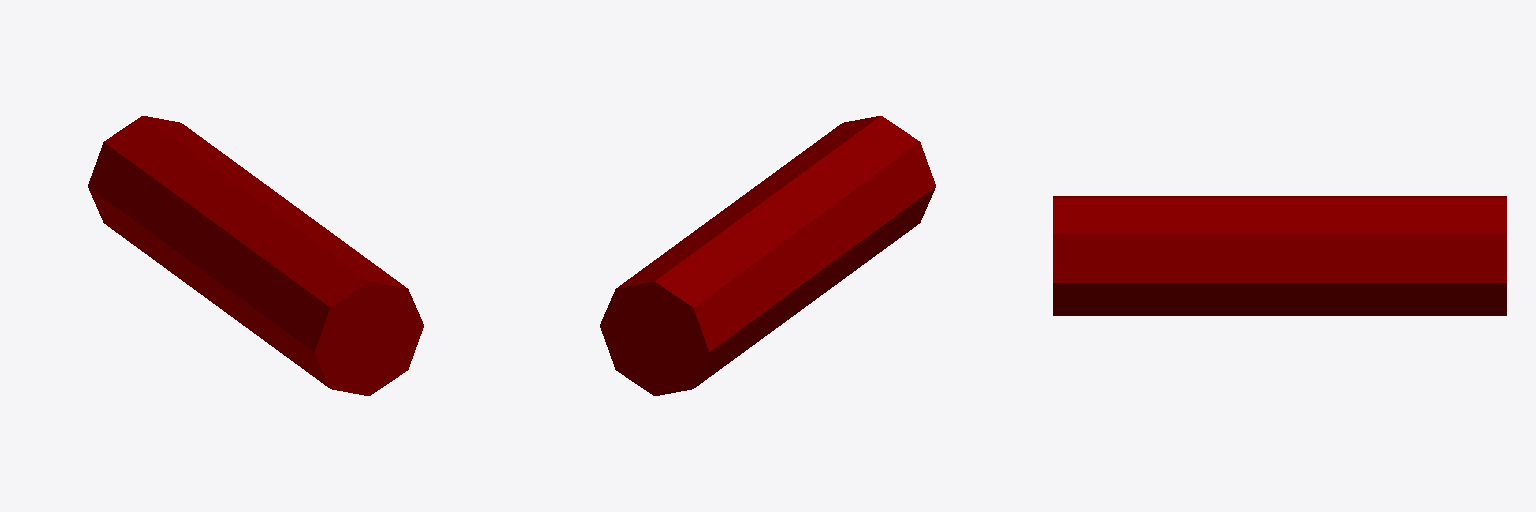
The model's file is GunFlame3.obj.
3 views of the same model, side by side, from view 1: azimuth 30°, elevation 25°; view 2: azimuth 150°, elevation 25°; view 3: azimuth 270°, elevation 25° (orthographic).
Parts seen in each view (by area): view 1: GunFlame3; view 2: GunFlame3; view 3: GunFlame3.
Part boxes in pixels (left/top/right/bottom): GunFlame3: left=88, top=116, right=423, bottom=395; GunFlame3: left=600, top=116, right=935, bottom=395; GunFlame3: left=1053, top=196, right=1506, bottom=315.
Bounding box in the file's own units: 1.4 × 1.4 × 5.